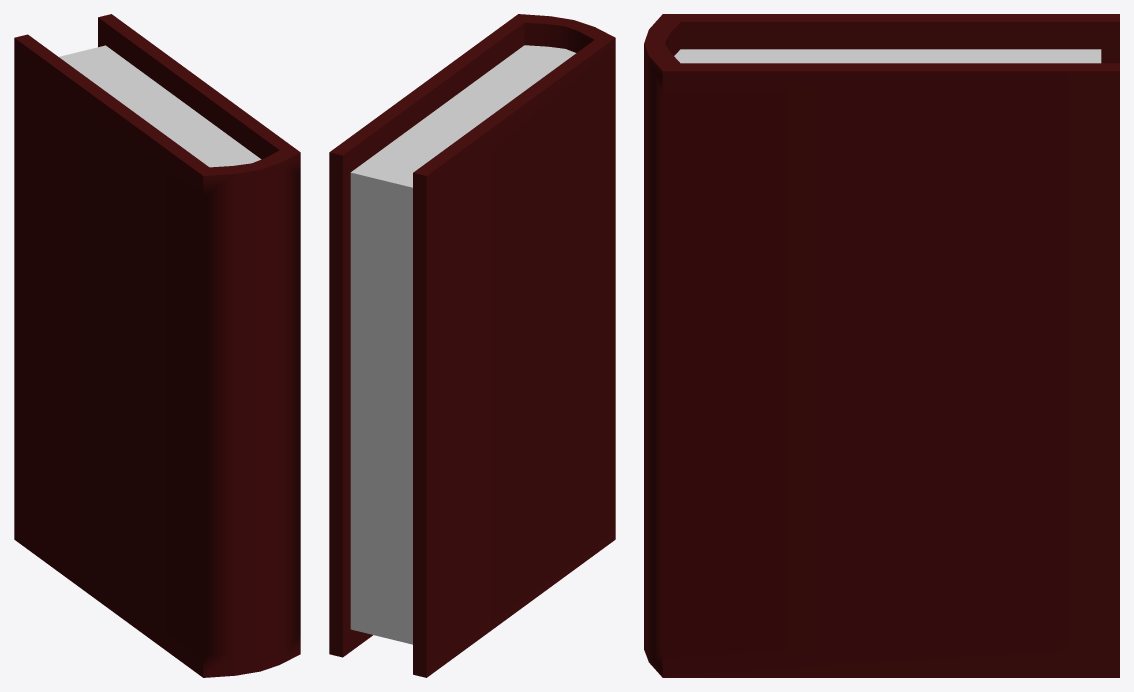
The model's file is RedBook.fbx.
The picture shows the model from 3 angles, left to right: view 1: azimuth 30°, elevation 25°; view 2: azimuth 150°, elevation 25°; view 3: azimuth 270°, elevation 25°; orthographic projection. The views are drawn at different scales.
Parts seen in each view (by area): view 1: RedBook; view 2: RedBook; view 3: RedBook.
Boxes of the visible parts, <box> form: RedBook: <box>14,14,300,677</box>; RedBook: <box>329,14,615,677</box>; RedBook: <box>644,14,1119,677</box>.
Size of the model in its own units: 164 by 806 by 573.
